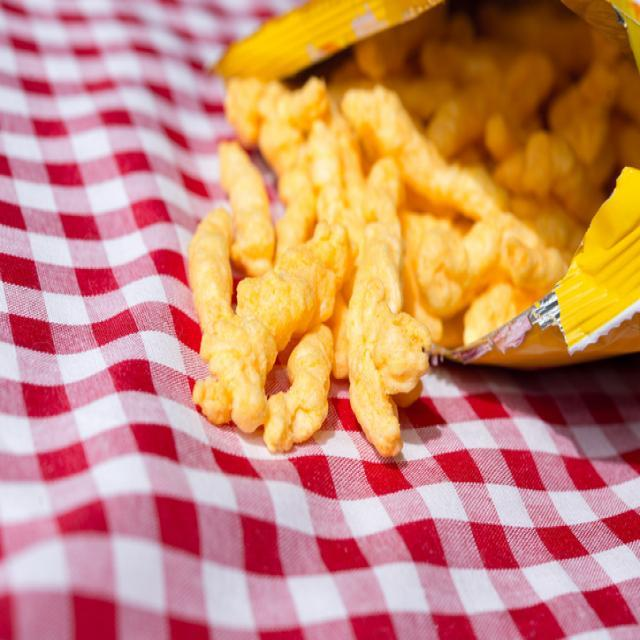Chips packaged: (162, 68, 530, 480)
